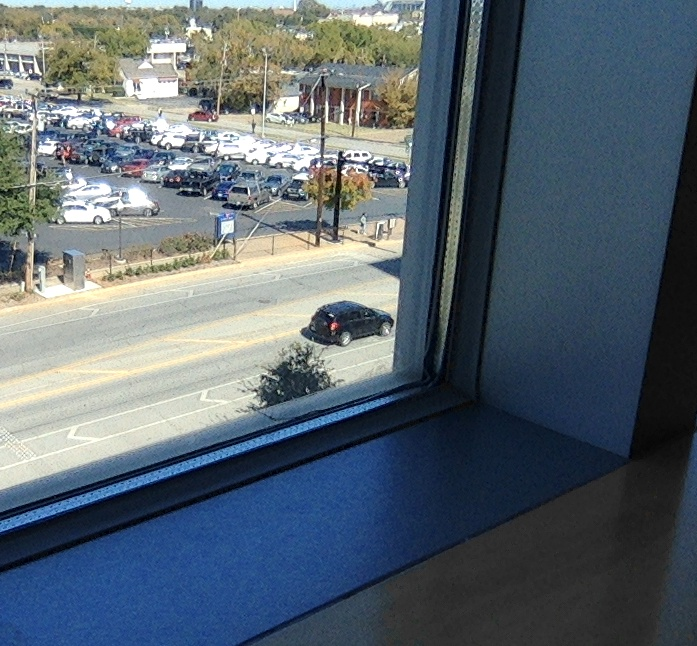car: (300, 300, 397, 346)
